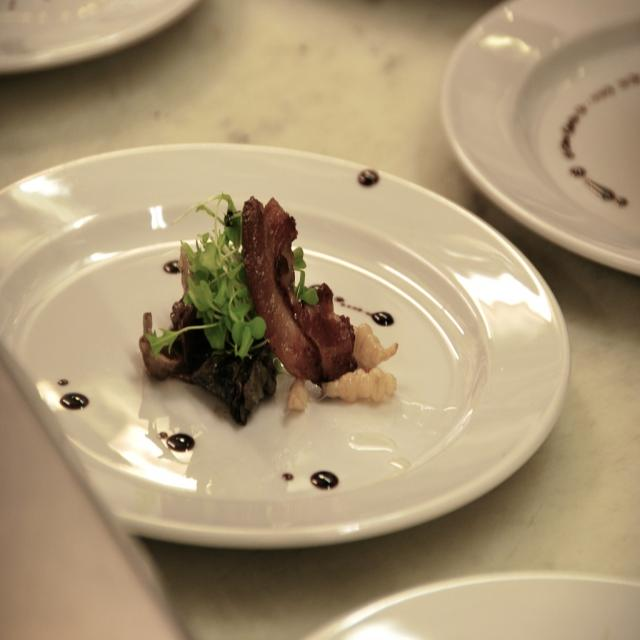non-organic waste: (2, 132, 576, 554)
